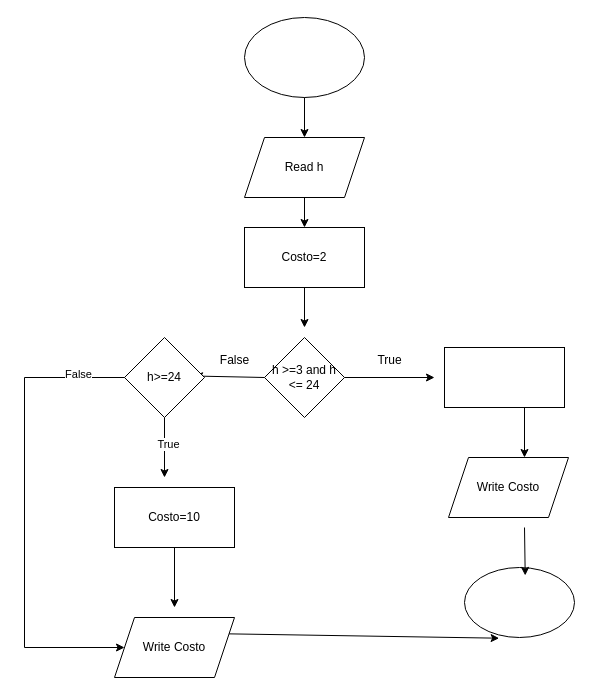
This 592x695 diagram has some shape labels left out. Here are the shapes that lost their labels. From the top down, the box of each, then its label:
(244, 16, 364, 98): Start
(444, 346, 564, 408): Costo= 0,5*(h-3)
(464, 566, 574, 638): End
